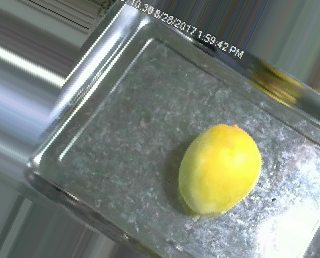Mango: (174, 113, 271, 218)
